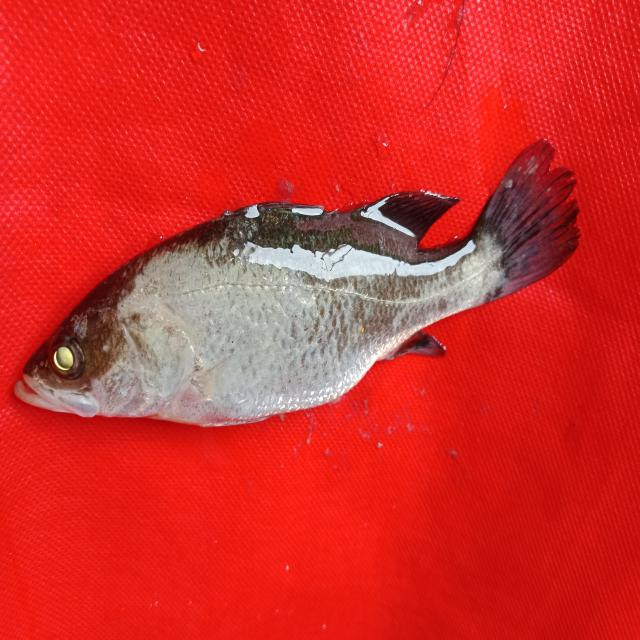ikan: (8, 125, 598, 442)
